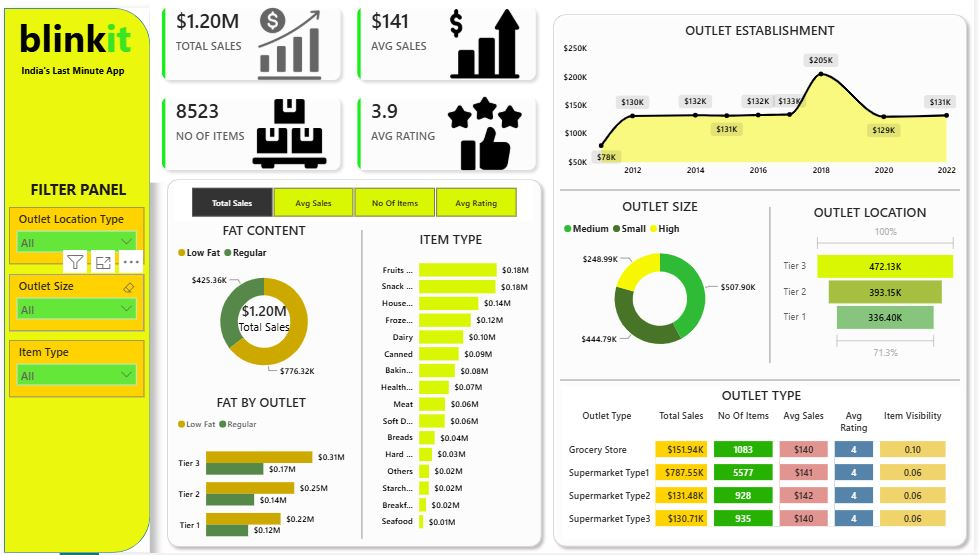

Layout of this report page (visuals, bound fields, positions):
{"tool":"powerbi","page":{"name":"Page 1","canvas":[1400,800],"ordinal":0},"visuals":[{"type":"shape","box":[9.4,18.9,209.4,781.1],"z":0},{"type":"textbox","box":[25.2,18.9,185.8,92.9],"z":1000},{"type":"textbox","box":[29.9,94.5,181.1,34.6],"z":2000},{"type":"cardVisual","fields":{"Data":["BlinkIT Grocery Data.Total Sales","BlinkIT Grocery Data.Avg Sales","BlinkIT Grocery Data.No Of Items","BlinkIT Grocery Data.Avg Rating"]},"box":[218.9,0,570.1,269.3],"z":3000},{"type":"shape","box":[234.6,255.1,554.3,544.9],"z":4000},{"type":"donutChart","title":"FAT CONTENT","fields":{"Y":["BlinkIT Grocery Data.Total Sales"],"Category":["BlinkIT Grocery Data.Item Fat Content"]},"box":[253.5,324.4,258.3,234.6],"z":5000},{"type":"slicer","fields":{"Values":["Metrics.Metrics"]},"box":[253.5,269.3,515,55.1],"z":6000},{"type":"cardVisual","fields":{"Data":["BlinkIT Grocery Data.Total Sales"]},"box":[324.4,426.8,118.1,70.9],"z":7000},{"type":"clusteredBarChart","title":"FAT BY OUTLET","fields":{"Y":["BlinkIT Grocery Data.Total Sales"],"Category":["BlinkIT Grocery Data.Outlet Location Type"],"Series":["BlinkIT Grocery Data.Item Fat Content"]},"box":[253.5,570.1,250.4,229.9],"z":8000},{"type":"shape","box":[492.9,337,59.8,442.5],"z":9000},{"type":"barChart","title":"ITEM TYPE","fields":{"Y":["BlinkIT Grocery Data.Total Sales"],"Category":["BlinkIT Grocery Data.Item Type"]},"box":[533.9,337,234.6,442.5],"z":10000},{"type":"shape","box":[789,18.9,611,781.1],"z":11000},{"type":"lineChart","title":"OUTLET ESTABLISHMENT","fields":{"Category":["BlinkIT Grocery Data.Outlet Establishment Year"],"Y":["BlinkIT Grocery Data.Total Sales"]},"box":[807.9,37.8,573.2,231.5],"z":12000},{"type":"shape","box":[807.9,255.1,573.2,48.8],"z":13000},{"type":"donutChart","title":"OUTLET SIZE","fields":{"Category":["BlinkIT Grocery Data.Outlet Size"],"Y":["BlinkIT Grocery Data.Total Sales"]},"box":[807.9,289.8,286.6,237.8],"z":14000},{"type":"shape","box":[1078.7,303.9,59.8,223.6],"z":15000},{"type":"funnel","title":"OUTLET LOCATION","fields":{"Y":["Sum(BlinkIT Grocery Data.Sales)"],"Category":["BlinkIT Grocery Data.Outlet Location Type"]},"box":[1122.8,297.6,258.3,229.9],"z":16000},{"type":"shape","box":[807.9,527.6,573.2,48.8],"z":17000},{"type":"pivotTable","title":"OUTLET TYPE","fields":{"Values":["BlinkIT Grocery Data.Total Sales","BlinkIT Grocery Data.No Of Items","BlinkIT Grocery Data.Avg Sales","BlinkIT Grocery Data.Avg Rating","Avg(BlinkIT Grocery Data.Item Visibility)"],"Rows":["BlinkIT Grocery Data.Outlet Type"]},"box":[809.4,560.6,571.7,218.9],"z":18000},{"type":"slicer","fields":{"Values":["BlinkIT Grocery Data.Outlet Location Type"]},"box":[17.3,303.9,193.7,81.9],"z":19000},{"type":"slicer","fields":{"Values":["BlinkIT Grocery Data.Outlet Size"]},"box":[17.3,400,193.7,81.9],"z":20000},{"type":"slicer","fields":{"Values":["BlinkIT Grocery Data.Item Type"]},"box":[17.3,494.5,193.7,81.9],"z":21000},{"type":"textbox","box":[39.4,258.3,155.9,39.4],"z":22000}]}

Visuals, with their boxes in screenshot pixels (x1, y1, x2, y2), scaled from the page's 1400x800 canvas onto the 978x555 screenshot:
shape: (left=7, top=13, right=153, bottom=554)
textbox: (left=18, top=13, right=147, bottom=78)
textbox: (left=21, top=66, right=147, bottom=90)
cardVisual - BlinkIT Grocery Data.Total Sales x BlinkIT Grocery Data.Avg Sales: (left=153, top=0, right=551, bottom=187)
shape: (left=164, top=177, right=551, bottom=554)
"FAT CONTENT" donutChart: (left=177, top=225, right=358, bottom=388)
slicer - Metrics.Metrics: (left=177, top=187, right=537, bottom=225)
cardVisual - BlinkIT Grocery Data.Total Sales: (left=227, top=296, right=309, bottom=345)
"FAT BY OUTLET" clusteredBarChart: (left=177, top=396, right=352, bottom=554)
shape: (left=344, top=234, right=386, bottom=541)
"ITEM TYPE" barChart: (left=373, top=234, right=537, bottom=541)
shape: (left=551, top=13, right=977, bottom=554)
"OUTLET ESTABLISHMENT" lineChart: (left=564, top=26, right=965, bottom=187)
shape: (left=564, top=177, right=965, bottom=211)
"OUTLET SIZE" donutChart: (left=564, top=201, right=765, bottom=366)
shape: (left=754, top=211, right=795, bottom=366)
"OUTLET LOCATION" funnel: (left=784, top=206, right=965, bottom=366)
shape: (left=564, top=366, right=965, bottom=400)
"OUTLET TYPE" pivotTable: (left=565, top=389, right=965, bottom=541)
slicer - BlinkIT Grocery Data.Outlet Location Type: (left=12, top=211, right=147, bottom=268)
slicer - BlinkIT Grocery Data.Outlet Size: (left=12, top=278, right=147, bottom=334)
slicer - BlinkIT Grocery Data.Item Type: (left=12, top=343, right=147, bottom=400)
textbox: (left=28, top=179, right=136, bottom=207)
